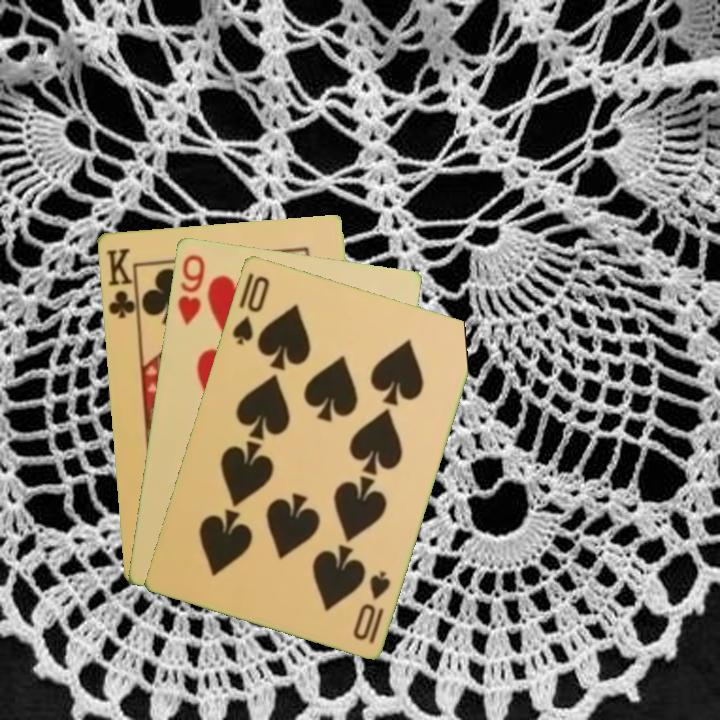10s: (349, 567, 393, 646), (228, 272, 272, 348)
9h: (173, 250, 208, 329)
Kc: (103, 244, 140, 323)
